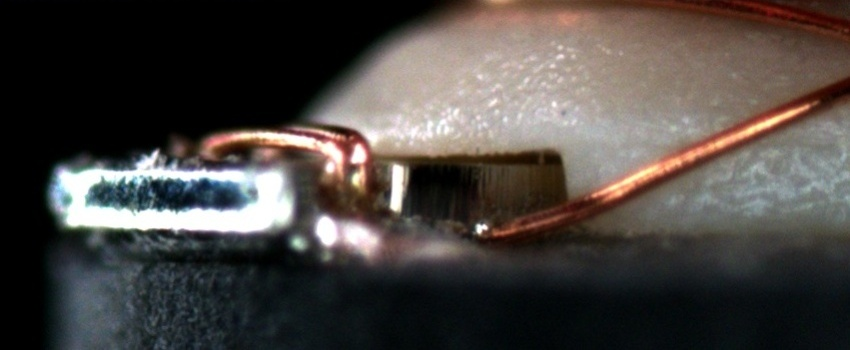DL: (636, 111, 849, 174)
TE: (186, 120, 375, 201)
